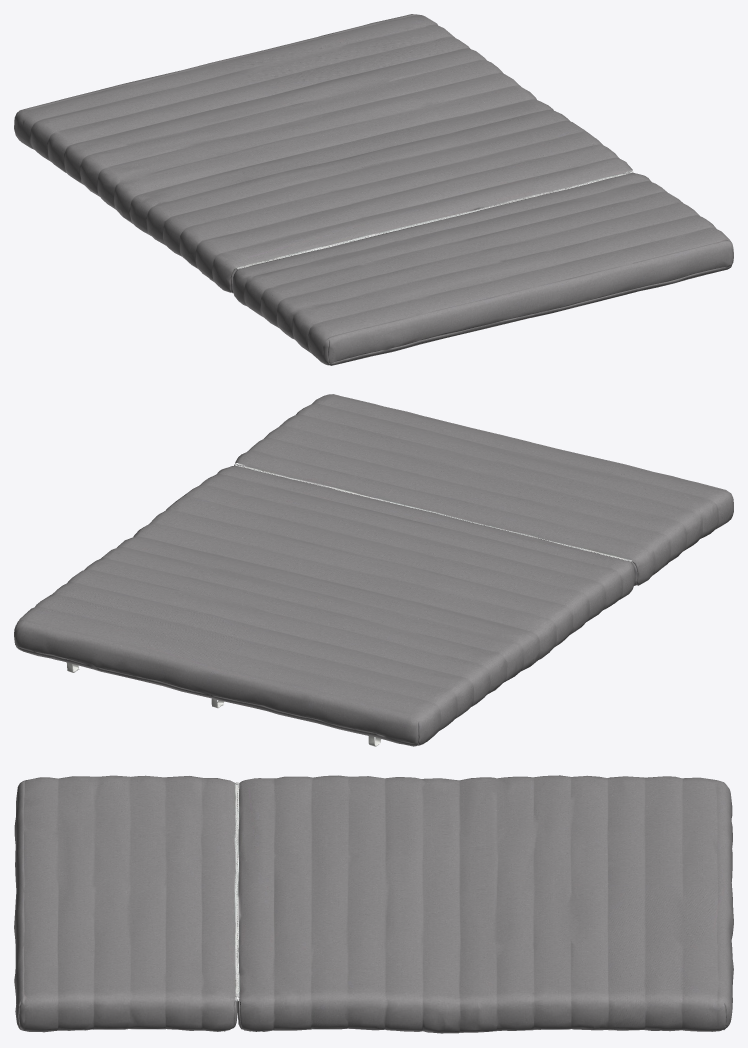
3 views of the same model, one above another, from view 1: azimuth 30°, elevation 25°; view 2: azimuth 150°, elevation 25°; view 3: azimuth 270°, elevation 25° (orthographic). The views are drawn at different scales.
Parts seen in each view (by area): view 1: model; view 2: model; view 3: model.
Boxes of the visible parts, x1=… form: model: x1=14, y1=14, x2=733, y2=365; model: x1=14, y1=394, x2=733, y2=746; model: x1=14, y1=775, x2=733, y2=1033.
Size of the model in its own units: 1.42 by 0.1562 by 1.9.
2 materials, 2 textured.
